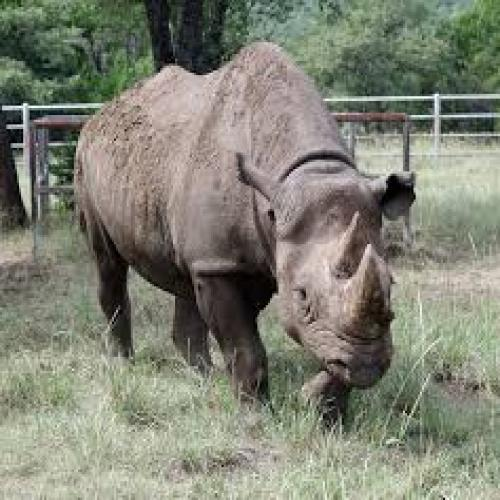rhino-endangered: (73, 40, 418, 434)
